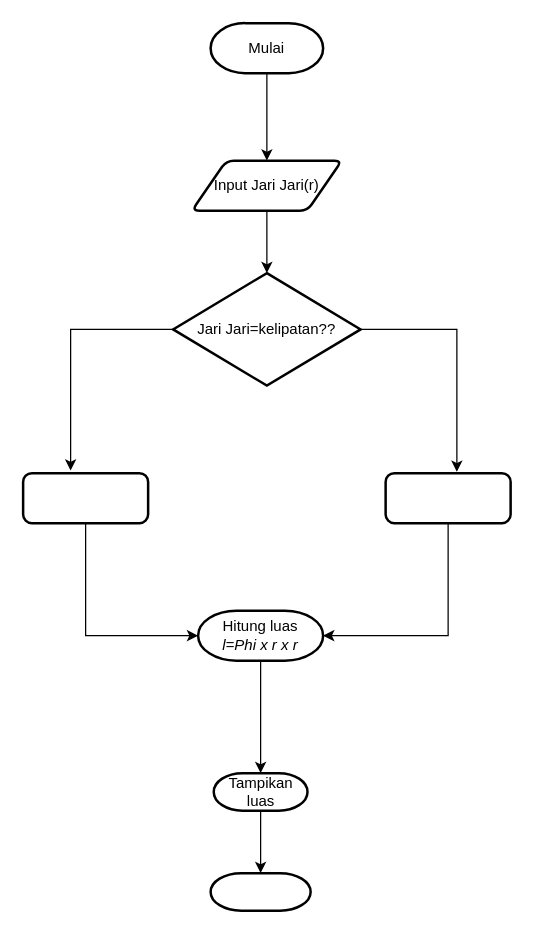
Image size: 533x933. Some labels were removed from this diagram. Here are the shapes that lost their labels. From the top down, the box of each, then its label:
(21, 471, 149, 524): Phi=22/7
(384, 471, 511, 524): Phi=3.14
